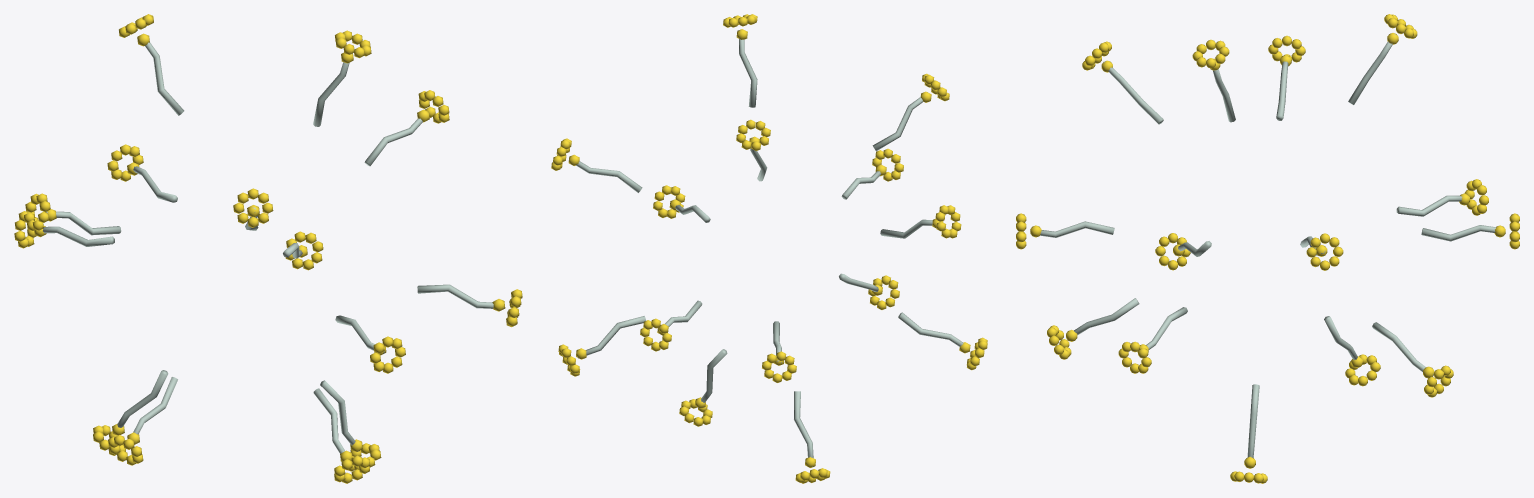
The model's file is folate_ligands.glb.
The picture shows the model from 3 angles, left to right: view 1: azimuth 30°, elevation 25°; view 2: azimuth 150°, elevation 25°; view 3: azimuth 270°, elevation 25°; orthographic projection. The views are drawn at different scales.
Parts seen in each view (by area): view 1: Folate_Heads, Folate_Stalks; view 2: Folate_Heads, Folate_Stalks; view 3: Folate_Heads, Folate_Stalks.
Boxes of the visible parts, <box> form: Folate_Heads: <box>14,14,522,483</box>; Folate_Stalks: <box>43,42,503,453</box>; Folate_Heads: <box>551,14,987,483</box>; Folate_Stalks: <box>568,30,970,466</box>; Folate_Heads: <box>1016,14,1519,483</box>; Folate_Stalks: <box>1030,34,1496,457</box>.
Bounding box in the file's own units: 3.84 × 3.85 × 4.08.
